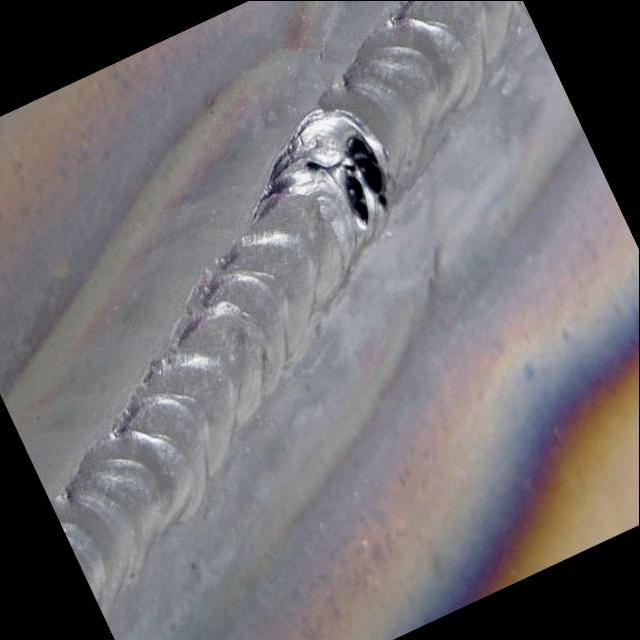defect: (329, 124, 395, 237)
